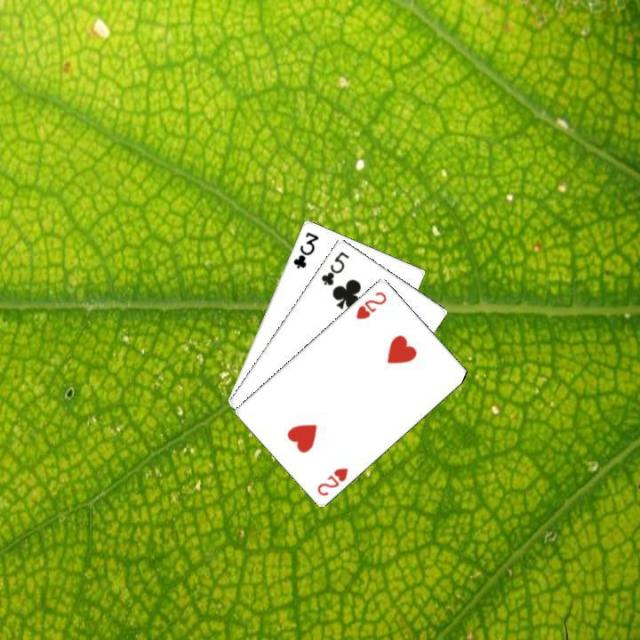2H: (313, 463, 350, 497), (352, 287, 388, 321)
3C: (289, 228, 321, 270)
5C: (317, 247, 351, 287)
